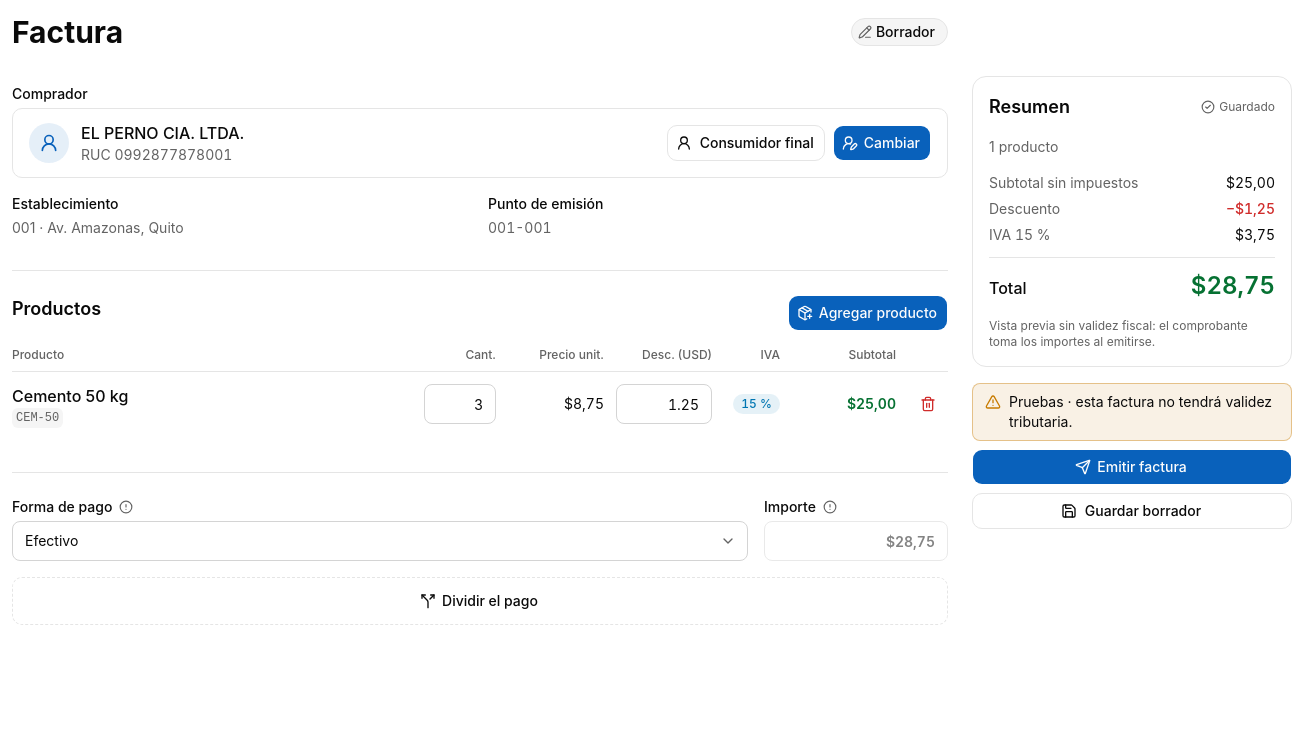
Test case: composición del editor › cada línea muestra su IVA y su subtotal del servidor, y se recalculan al escribir
expect the text "$25,00" in the row of "Cemento 50 kg" is shown: met, box [847, 395, 896, 412]
In the 1st field named "Cantidad": (460, 404) [424, 384, 496, 424], type "0"
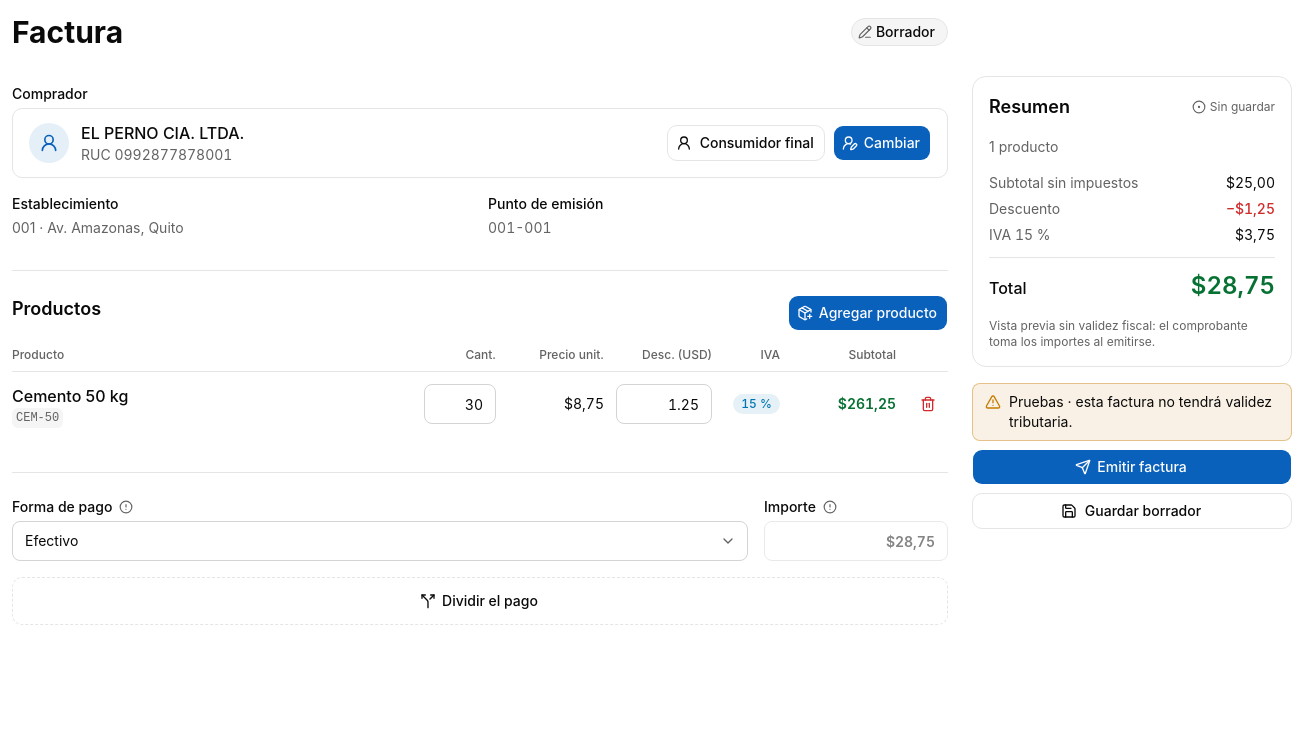
expect the text "$261,25" is shown: met, box [838, 395, 896, 412]
